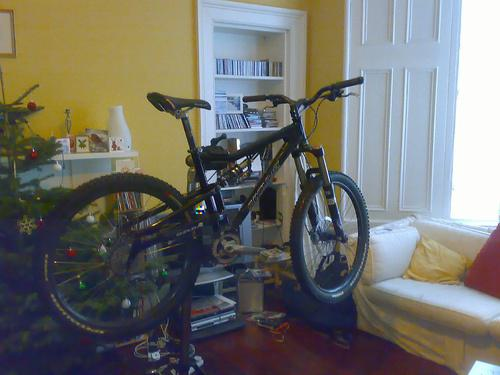car: (31, 74, 369, 346)
sofa: (344, 207, 500, 374)
